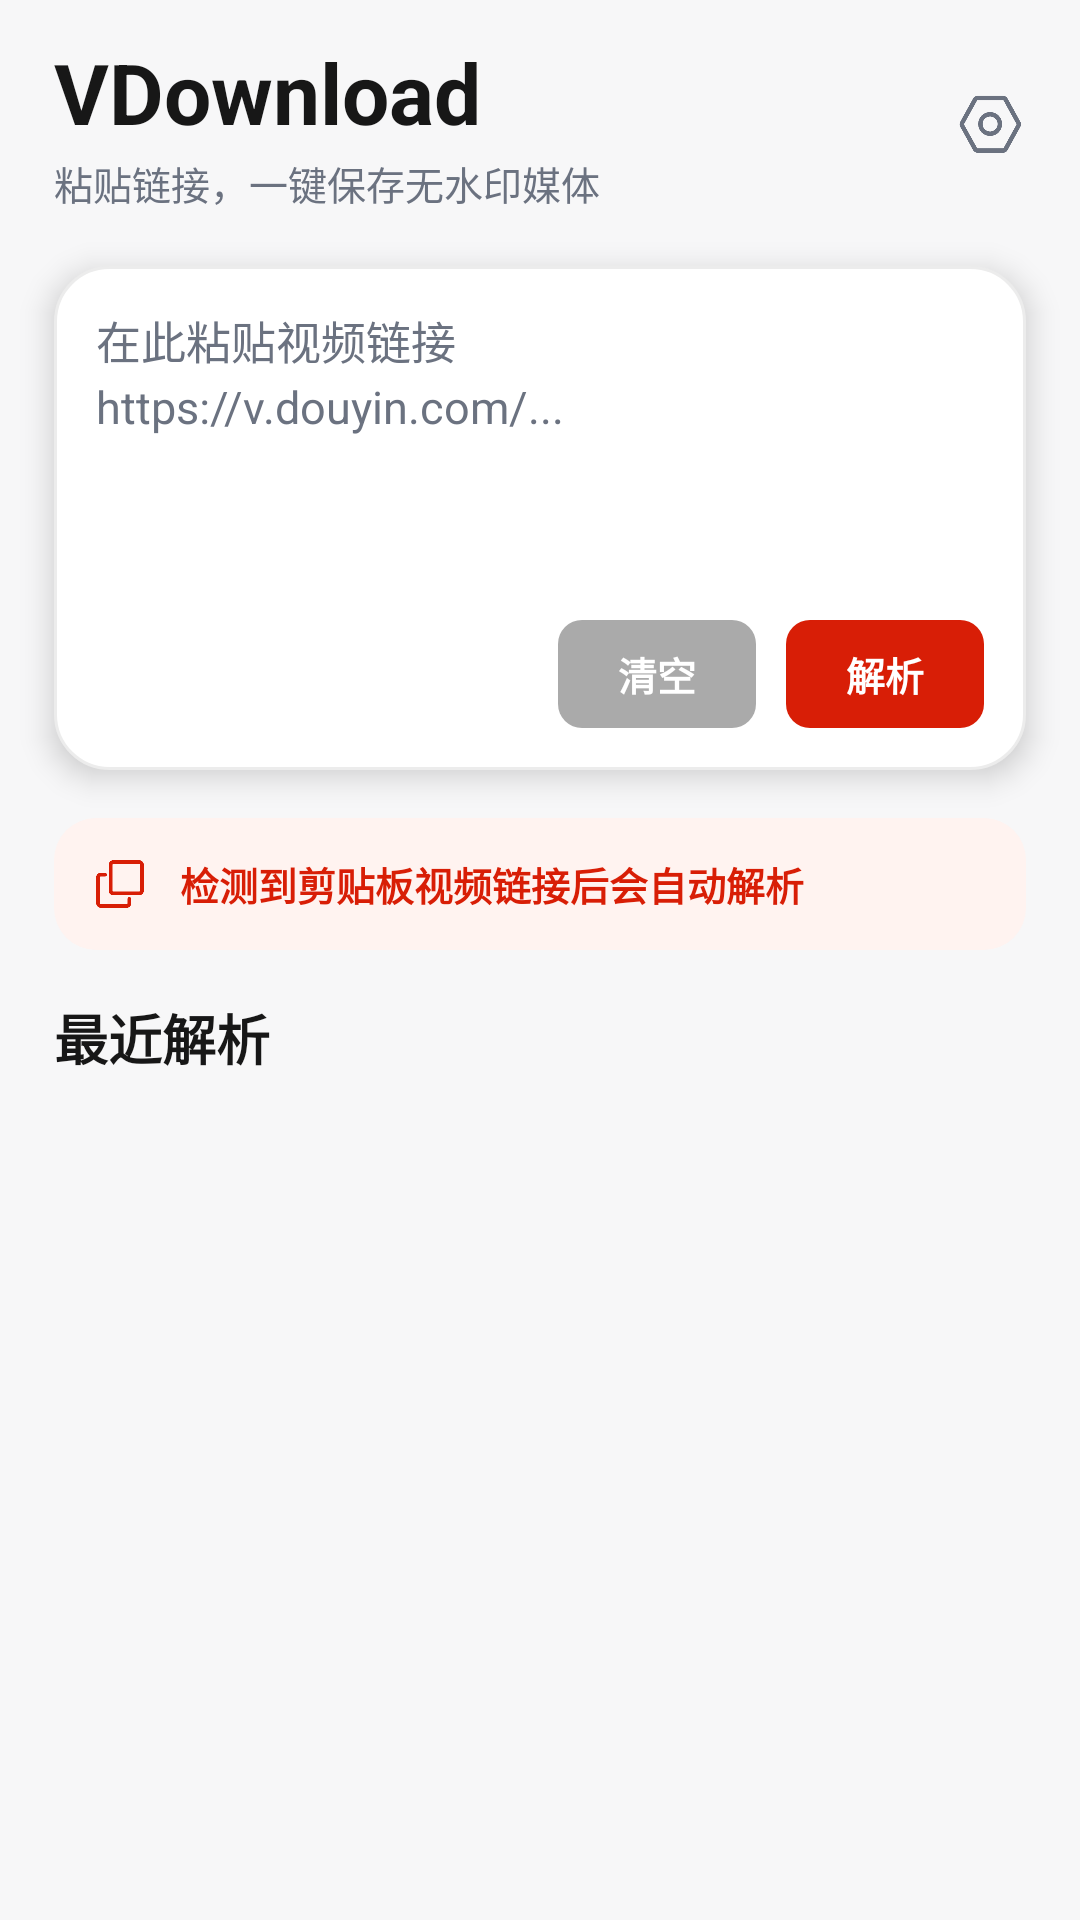

Named icons in this screenshot (1080x1920) and their bounding boxes, (x1, y1, x2, y2):
设置: (959, 96, 1021, 153)
